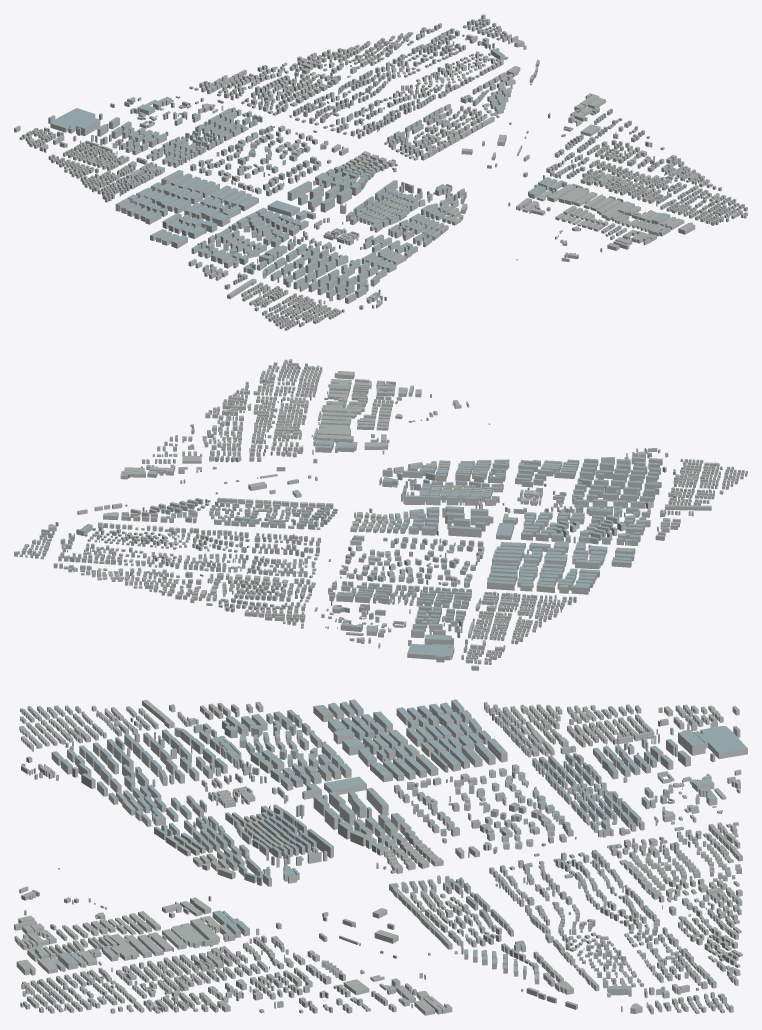
The model's file is far.glb.
The picture shows the model from 3 angles, top to bottom: view 1: azimuth 30°, elevation 25°; view 2: azimuth 150°, elevation 25°; view 3: azimuth 270°, elevation 25°; orthographic projection. The views are drawn at different scales.
Bounding box in the file's own units: 2152 × 37.9 × 2142.
